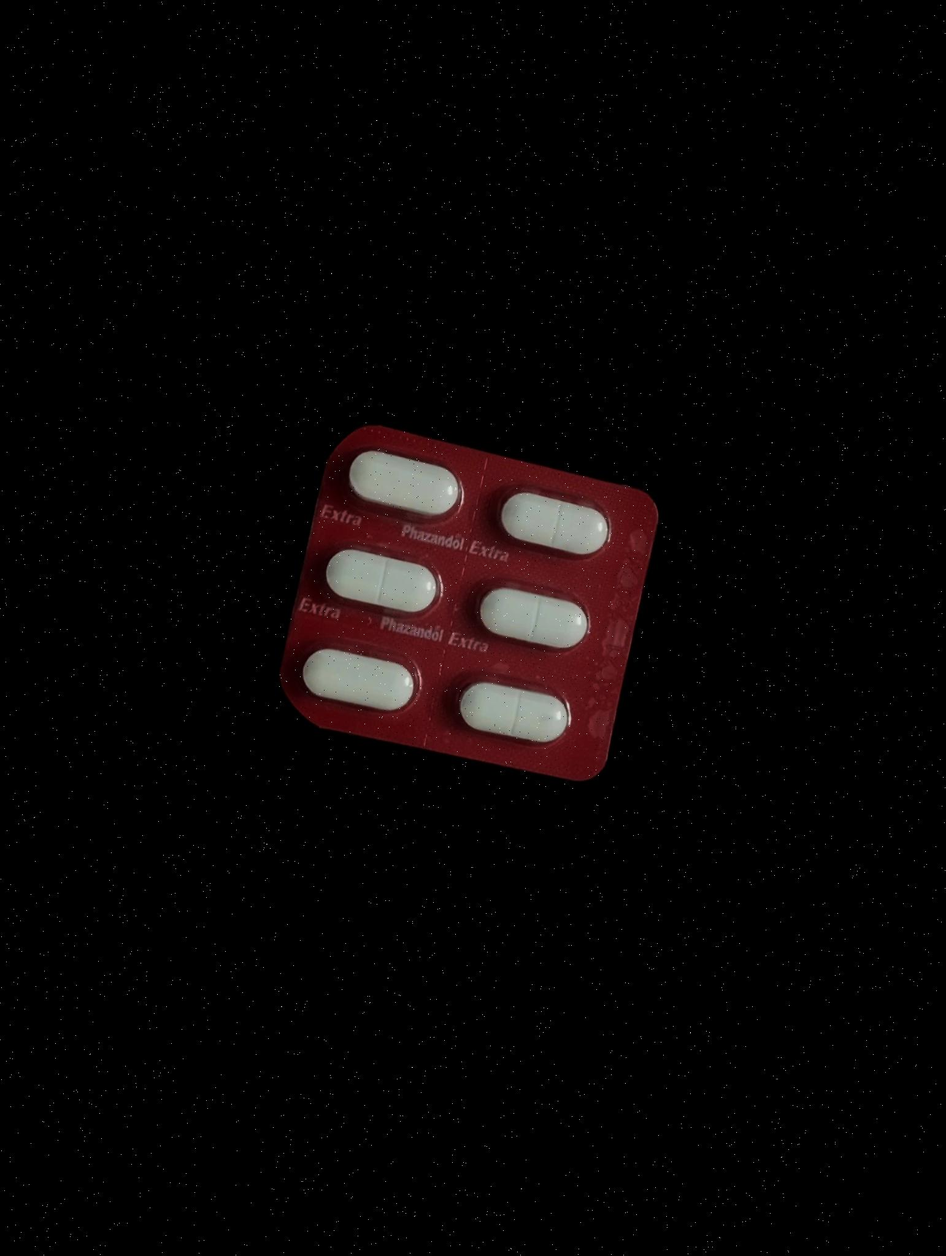Full: (467, 580, 606, 672), (310, 540, 452, 629), (328, 443, 471, 525), (290, 641, 423, 724), (494, 480, 622, 565), (451, 676, 579, 752)
